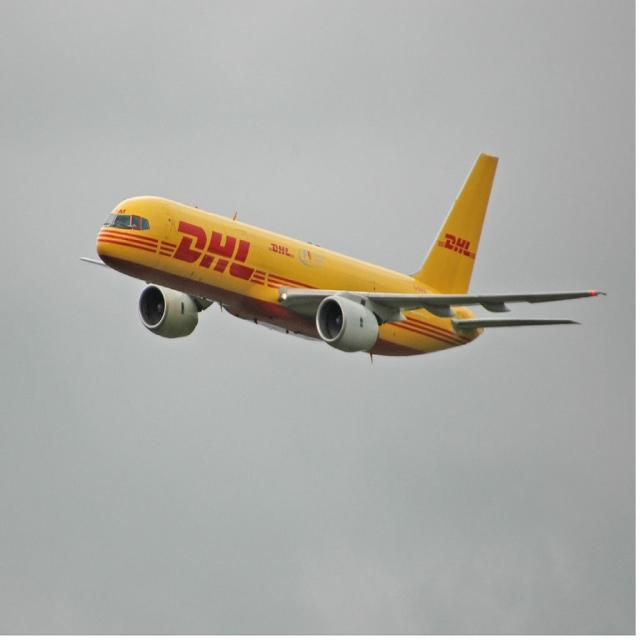dhl: (157, 219, 269, 293), (436, 232, 479, 265)
